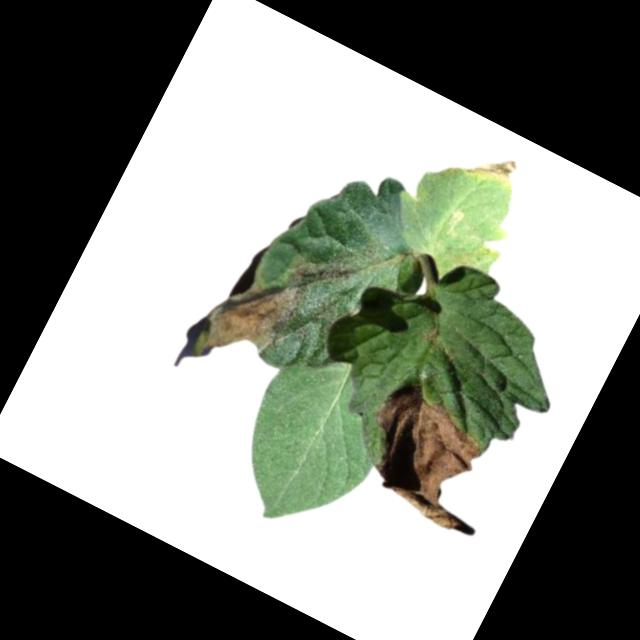Late_blight: (342, 369, 507, 532), (175, 230, 318, 396), (465, 143, 522, 193)
